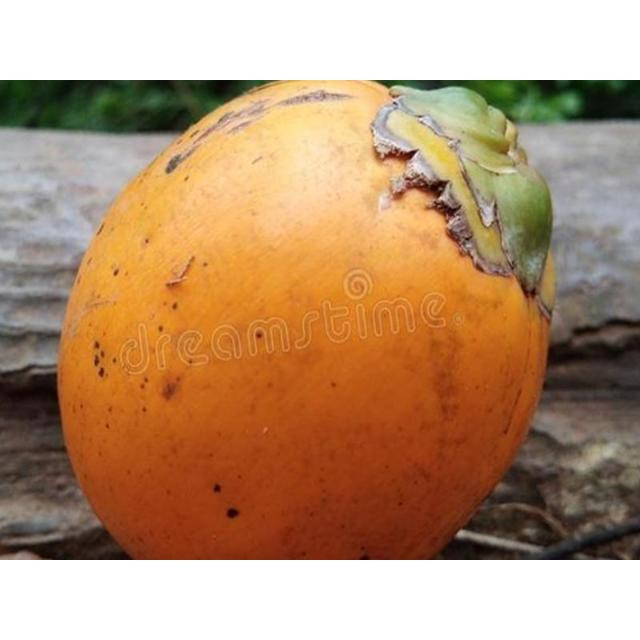good: (56, 80, 554, 559)
